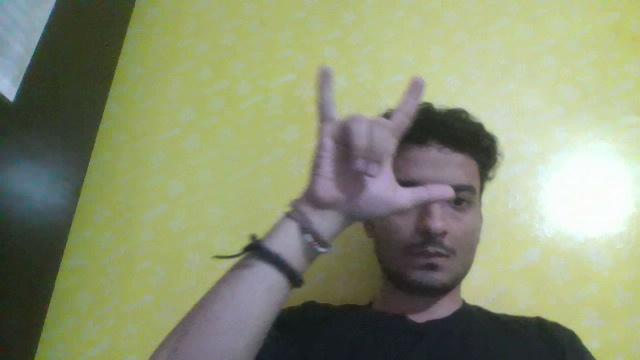Loveyou: (291, 33, 474, 240)
